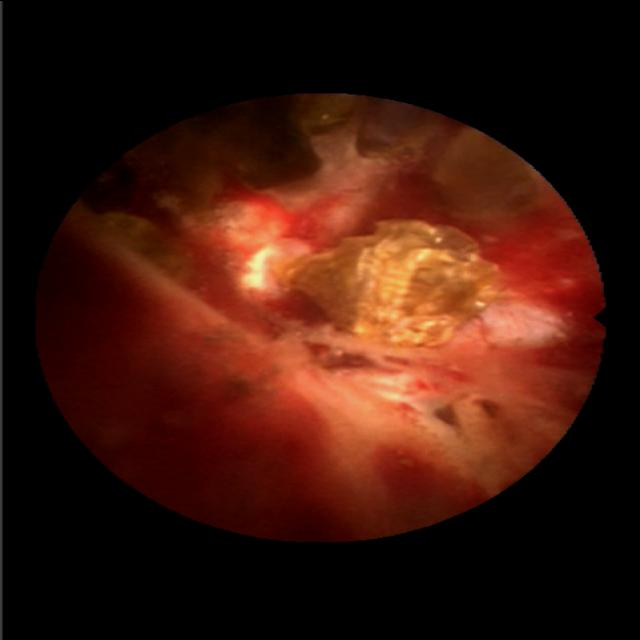stone: (136, 99, 441, 223), (279, 225, 499, 346), (429, 129, 540, 218), (103, 212, 195, 285)
tissue: (47, 171, 600, 530)
